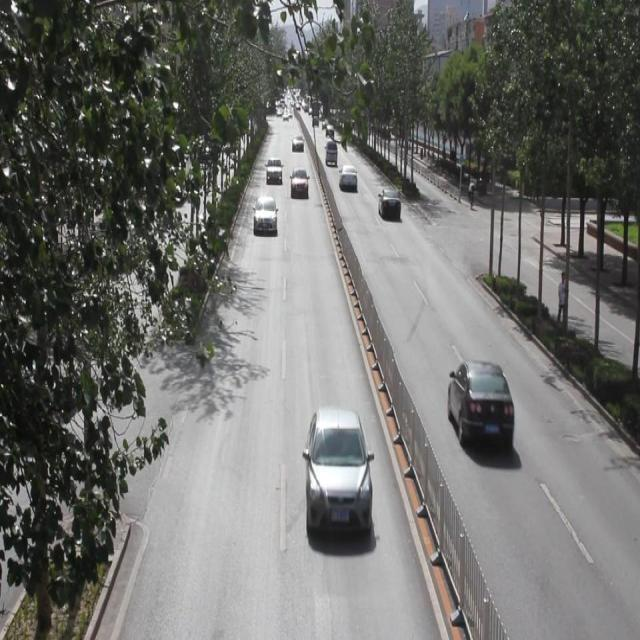car: (303, 406, 371, 536), (445, 358, 513, 454), (254, 195, 278, 234), (376, 187, 401, 220), (289, 166, 309, 198), (338, 164, 357, 192), (266, 156, 281, 182), (292, 132, 303, 152)
truck: (324, 139, 338, 167)
